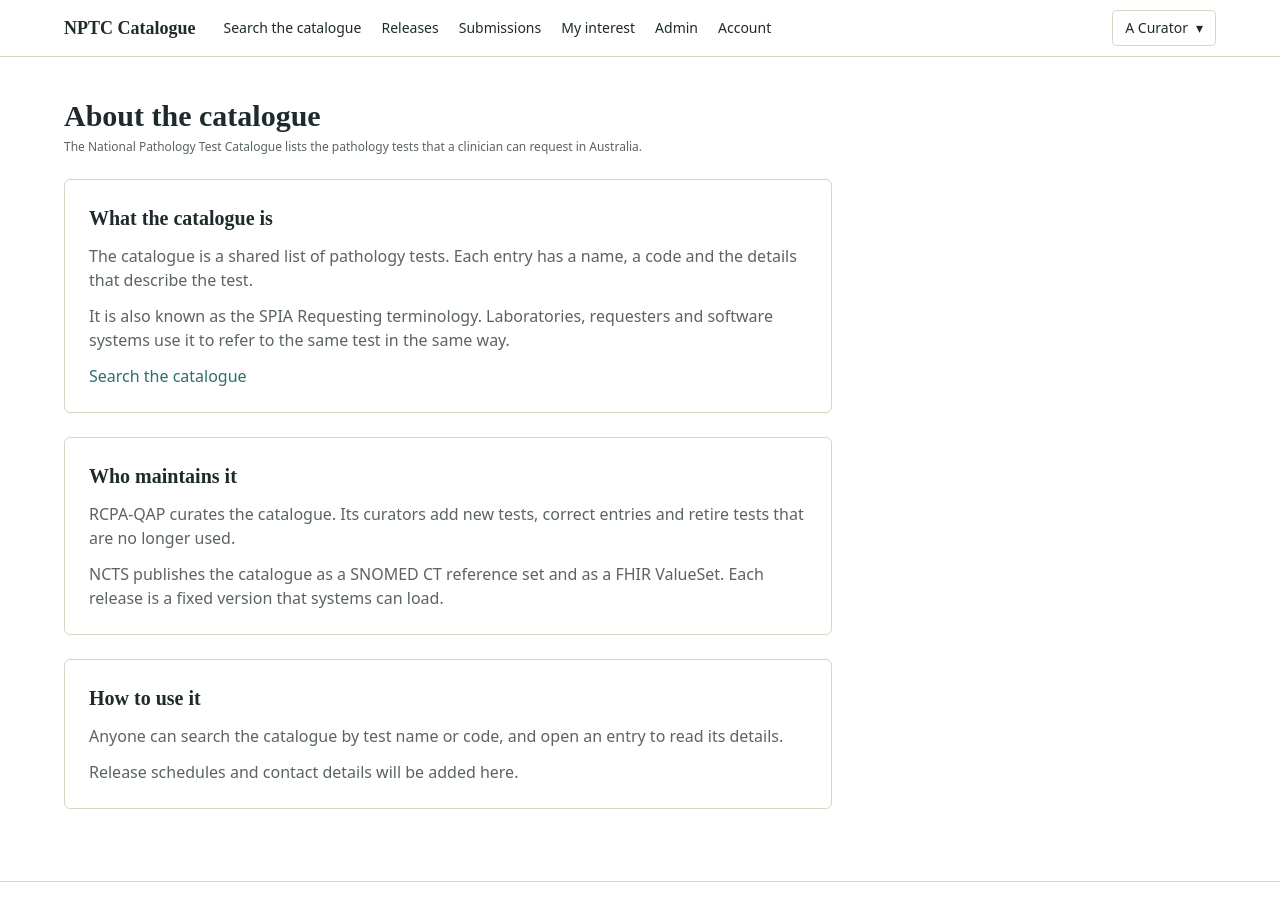
Scenario: UserMenu disclosure (NFR-31) › closes when Tab moves focus out of the menu
Step 1. Click the button "A Curator ▾" → [1164, 28], box [1112, 10, 1216, 46]
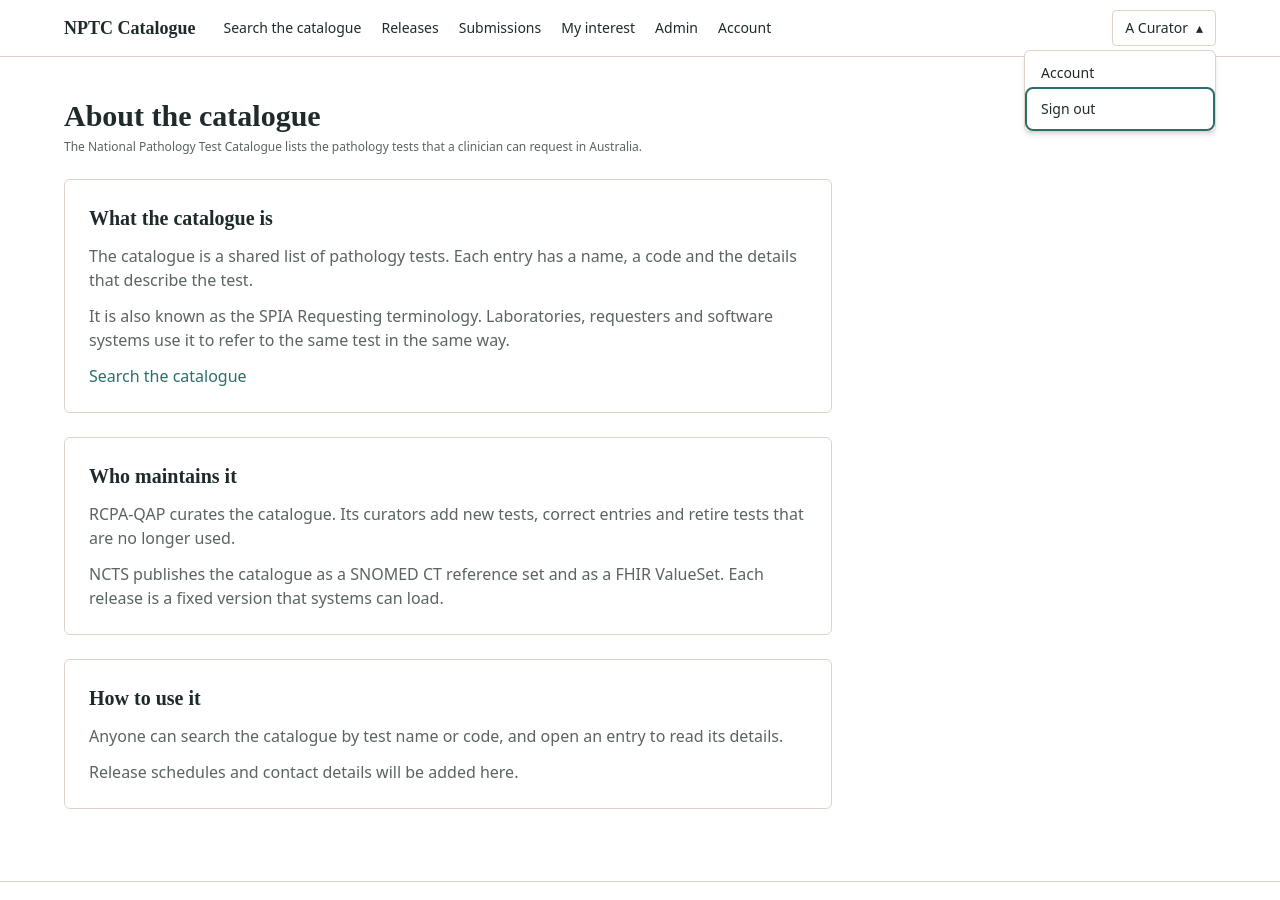
Step 2. Press Tab
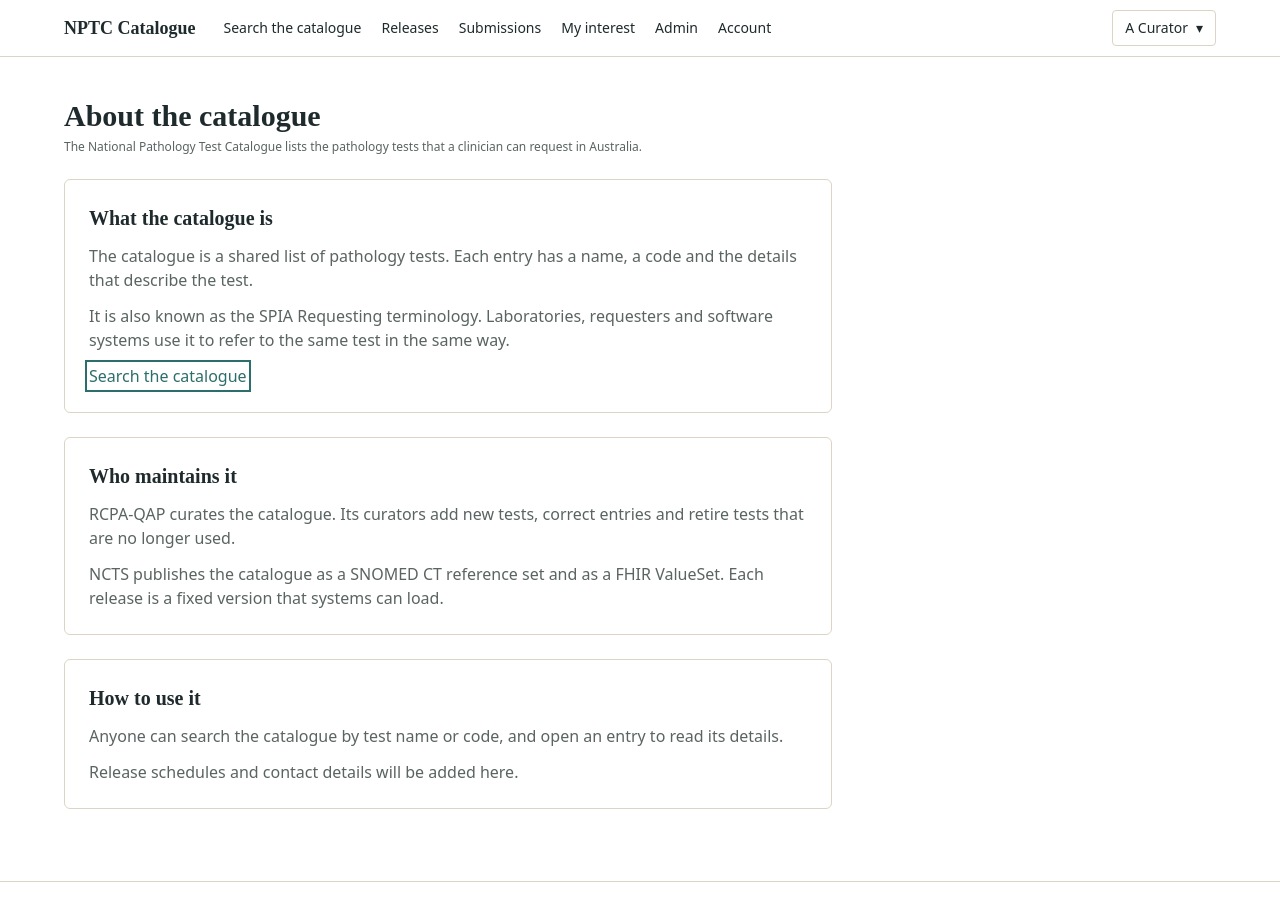
Expected: the button "A Curator ▾" is collapsed, [1112, 10, 1216, 46]
